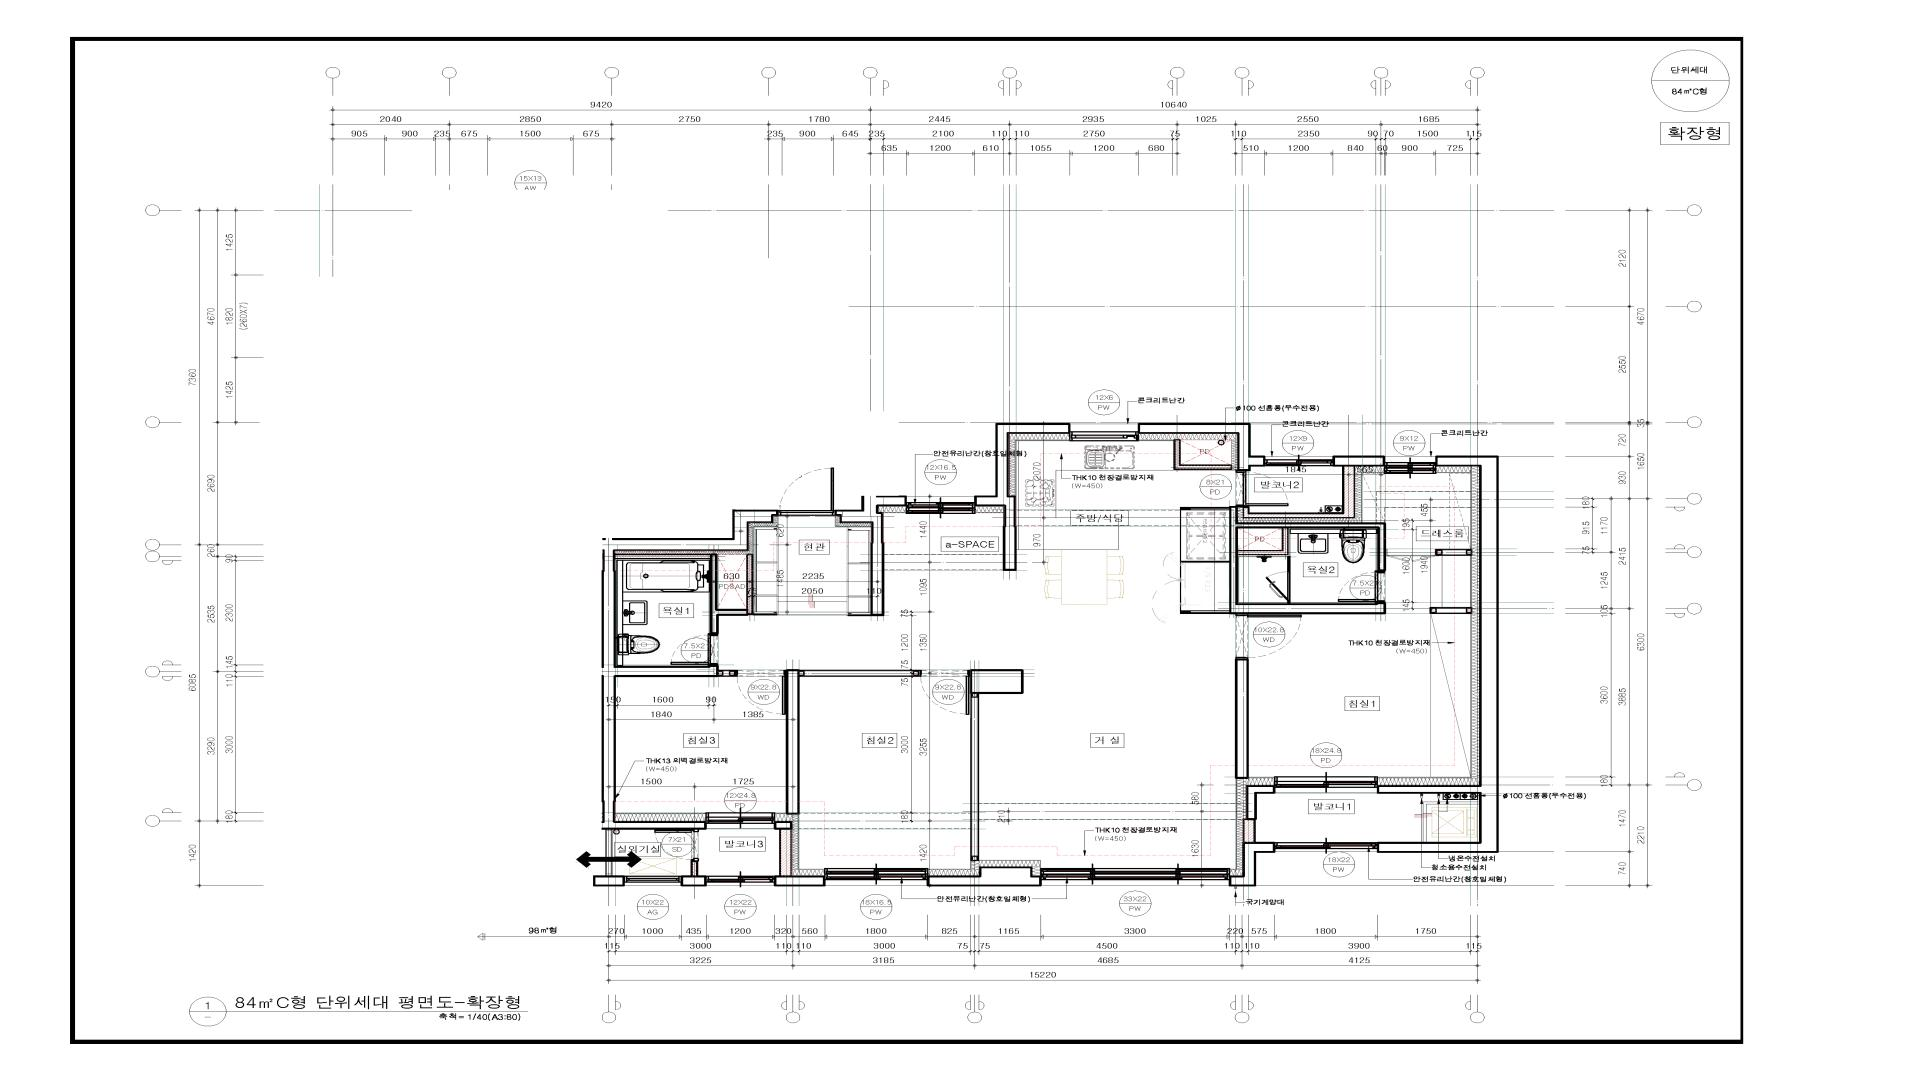door: (1235, 614, 1302, 659), (778, 467, 835, 516), (919, 670, 971, 715), (738, 670, 786, 715), (1235, 471, 1289, 506), (1338, 570, 1385, 604), (670, 633, 718, 666), (654, 830, 699, 862), (1266, 572, 1291, 601), (1386, 549, 1435, 562)
wall: (593, 510, 778, 886), (1377, 456, 1499, 853), (1180, 507, 1386, 614), (786, 670, 919, 815), (615, 527, 777, 633), (975, 423, 1070, 571), (970, 669, 1024, 861), (835, 496, 906, 616), (1139, 423, 1265, 471), (1243, 466, 1355, 518), (928, 866, 1040, 886), (848, 527, 871, 616), (1230, 842, 1275, 886), (1173, 439, 1232, 470), (1243, 785, 1274, 842), (1235, 659, 1249, 779), (1238, 528, 1289, 555), (775, 821, 792, 876), (1332, 455, 1384, 467), (774, 876, 824, 886), (680, 875, 707, 886), (1430, 607, 1472, 614), (1435, 549, 1472, 556), (718, 670, 738, 677), (690, 861, 698, 875), (1287, 556, 1291, 572)
window: (1040, 868, 1230, 885), (824, 868, 928, 885), (1274, 776, 1378, 793), (906, 496, 976, 514), (705, 812, 775, 829), (1070, 424, 1139, 441), (1275, 842, 1377, 852), (1384, 456, 1436, 474), (1265, 456, 1333, 466), (707, 876, 774, 886), (625, 876, 681, 886)
